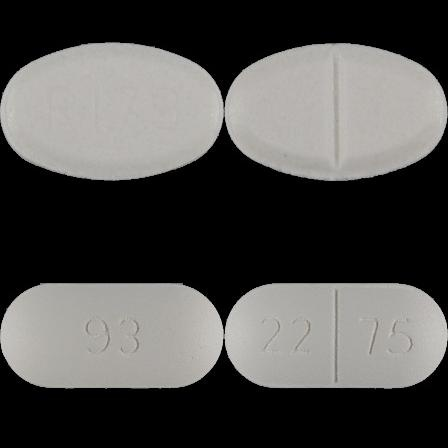52959-691: (0, 0, 224, 224)
